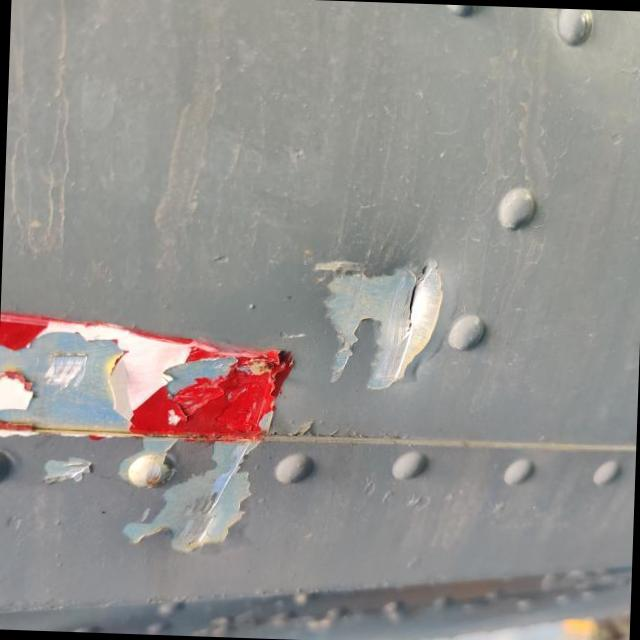Crack: (402, 263, 430, 335)
Paint-off: (0, 312, 295, 454), (314, 260, 444, 393), (123, 446, 250, 553)
